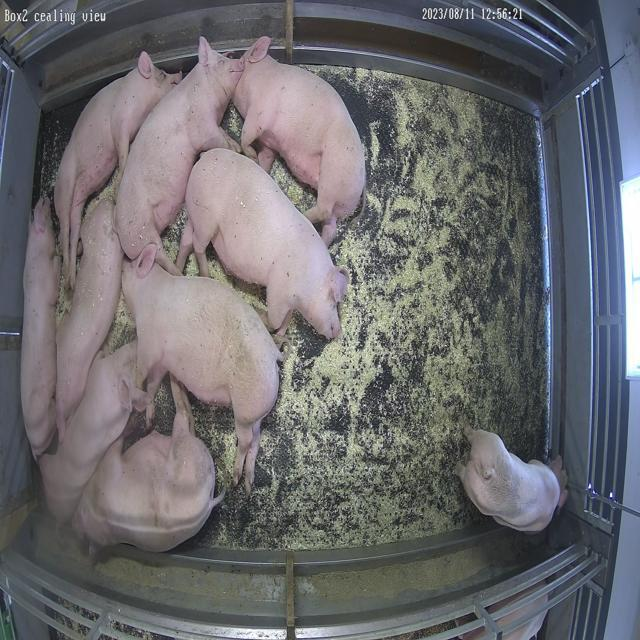Pig: (122, 245, 283, 492), (177, 148, 347, 338), (115, 36, 243, 274), (53, 51, 182, 286), (233, 36, 366, 244), (72, 381, 223, 552), (38, 343, 146, 524), (55, 199, 123, 436), (457, 427, 569, 533), (20, 198, 58, 458)
